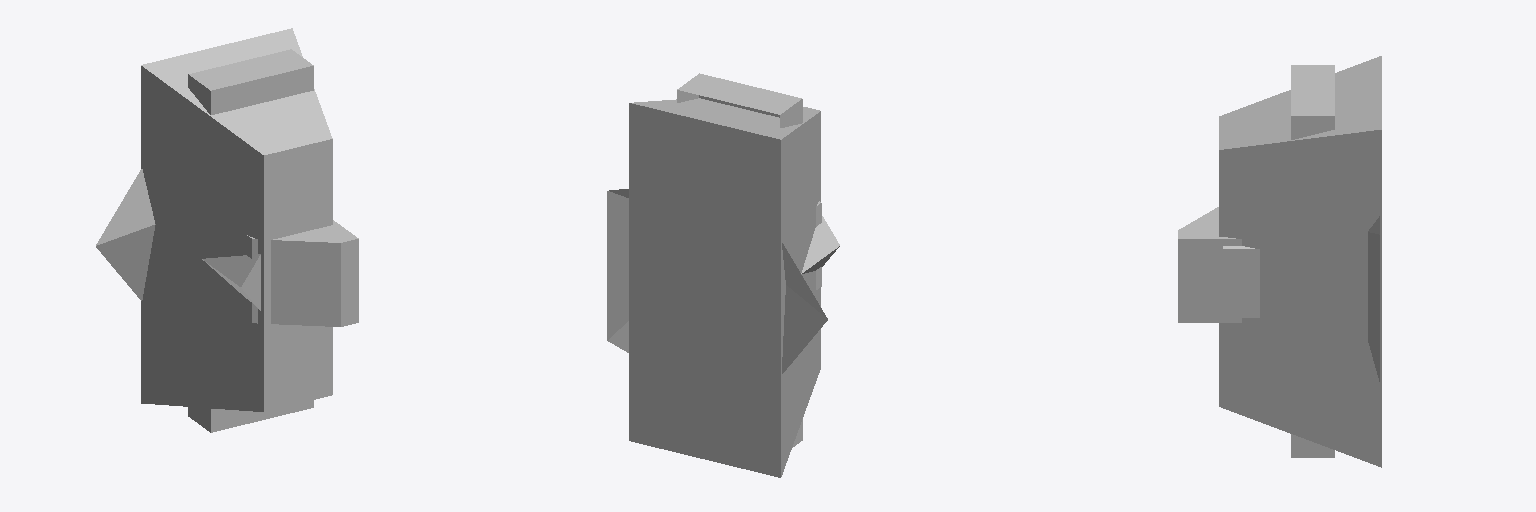
Rendered from detailings.obj.
3 views of the same model, side by side, from view 1: azimuth 30°, elevation 25°; view 2: azimuth 150°, elevation 25°; view 3: azimuth 270°, elevation 25° (orthographic).
Visible parts, largest first — view 1: concretepig_Cube.002, trashcan_Cube, scifibench_Cube.001, trashpile_Cone, barrel_Cylinder; view 2: concretepig_Cube.002, trashpile_Cone, scifibench_Cube.001, barrel_Cylinder; view 3: concretepig_Cube.002, trashcan_Cube, scifibench_Cube.001, barrel_Cylinder, trashpile_Cone.
Part boxes in pixels (x1,y1,x2,y2): concretepig_Cube.002: (141,28,332,411); trashcan_Cube: (247,220,358,326); scifibench_Cube.001: (188,49,313,432); trashpile_Cone: (96,169,155,300); barrel_Cylinder: (202,254,260,310); concretepig_Cube.002: (629,98,820,477); trashpile_Cone: (607,189,827,373); scifibench_Cube.001: (677,73,802,447); barrel_Cylinder: (801,216,839,273); concretepig_Cube.002: (1219,56,1381,467); trashcan_Cube: (1178,207,1241,322); scifibench_Cube.001: (1291,65,1334,457); barrel_Cylinder: (1223,246,1259,317); trashpile_Cone: (1368,216,1379,381).
Bounding box in the file's own units: 2.91 × 4.31 × 2.33.